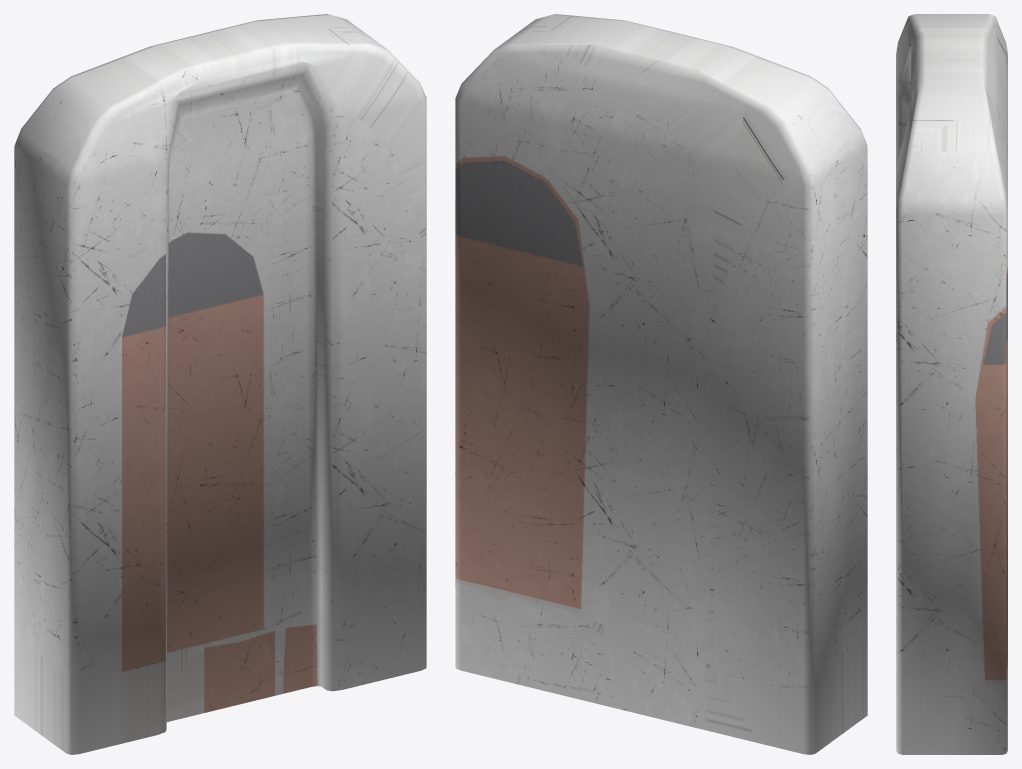
Rendered from Rail_end.gltf.
3 views of the same model, side by side, from view 1: azimuth 30°, elevation 25°; view 2: azimuth 150°, elevation 25°; view 3: azimuth 270°, elevation 25° (orthographic). The views are drawn at different scales.
Visible parts, largest first — view 1: Cube.002; view 2: Cube.002; view 3: Cube.002.
Part boxes in pixels (x1=…): Cube.002: x1=14, y1=14, x2=426, y2=754; Cube.002: x1=455, y1=14, x2=867, y2=754; Cube.002: x1=896, y1=14, x2=1007, y2=754.
Size of the model in its own units: 0.8455 by 1.45 by 0.24.
Materials: 1 (1 with a texture image).
